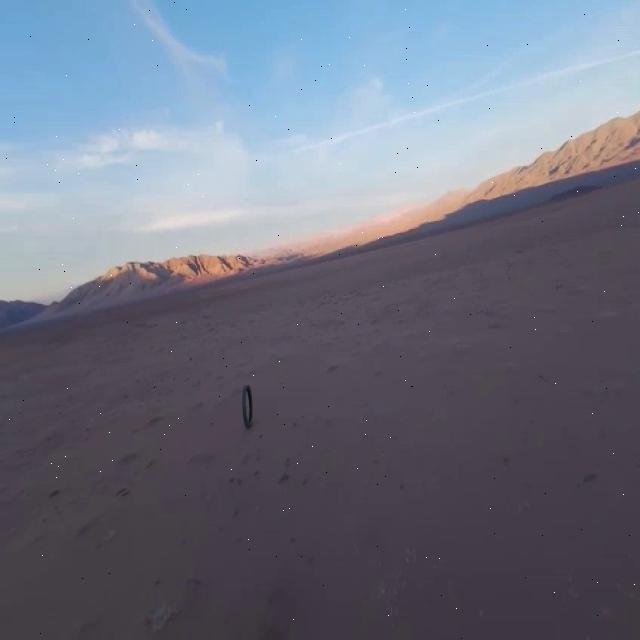Tire: (242, 384, 253, 428)
